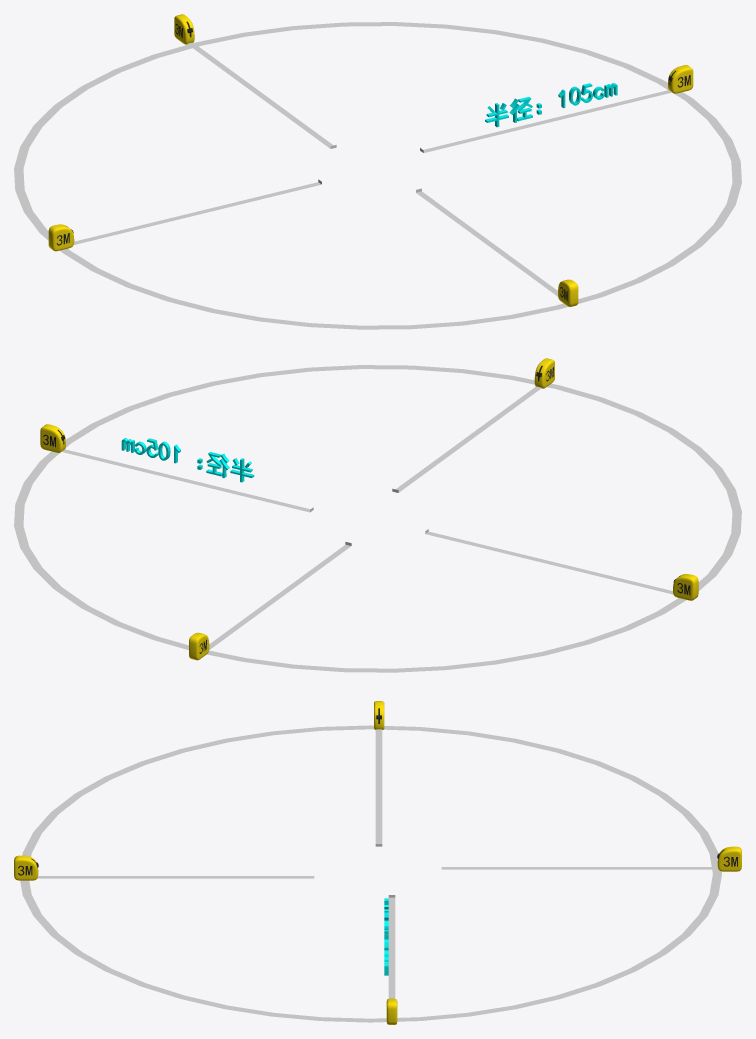
The picture shows the model from 3 angles, top to bottom: view 1: azimuth 30°, elevation 25°; view 2: azimuth 150°, elevation 25°; view 3: azimuth 270°, elevation 25°; orthographic projection. The views are drawn at different scales.
Visible parts, largest first — view 1: Huan1, Text105, JC_01_C003, JC_01_C001, JC_01_C004, JC_01_C002, JC_01_M003, JC_01_M001; view 2: Huan1, Text105, JC_01_C003, JC_01_C001, JC_01_C002, JC_01_C004, JC_01_M003, JC_01_M001; view 3: Huan1, JC_01_C001, JC_01_C004, JC_01_C002, JC_01_C003, JC_01_M004, JC_01_M002.
Boxes of the visible parts, bbox=[...] form: Huan1: bbox=[14, 22, 741, 329]; Text105: bbox=[485, 83, 617, 127]; JC_01_C003: bbox=[420, 90, 671, 152]; JC_01_C001: bbox=[73, 179, 321, 244]; JC_01_C004: bbox=[187, 42, 336, 148]; JC_01_C002: bbox=[416, 188, 557, 296]; JC_01_M003: bbox=[668, 65, 693, 93]; JC_01_M001: bbox=[48, 224, 74, 251]; Huan1: bbox=[14, 365, 741, 672]; Text105: bbox=[121, 438, 254, 482]; JC_01_C003: bbox=[61, 449, 313, 512]; JC_01_C001: bbox=[425, 529, 673, 594]; JC_01_C002: bbox=[392, 386, 541, 492]; JC_01_C004: bbox=[209, 542, 351, 649]; JC_01_M003: bbox=[40, 424, 65, 452]; JC_01_M001: bbox=[673, 574, 698, 600]; Huan1: bbox=[20, 725, 721, 1022]; JC_01_C001: bbox=[375, 729, 382, 846]; JC_01_C004: bbox=[441, 867, 718, 869]; JC_01_C002: bbox=[37, 876, 314, 878]; JC_01_C003: bbox=[388, 895, 395, 998]; JC_01_M004: bbox=[717, 846, 741, 871]; JC_01_M002: bbox=[14, 855, 38, 880].
Size of what is drawn, in the model's own units: 82.19 by 4.23 by 82.94.
